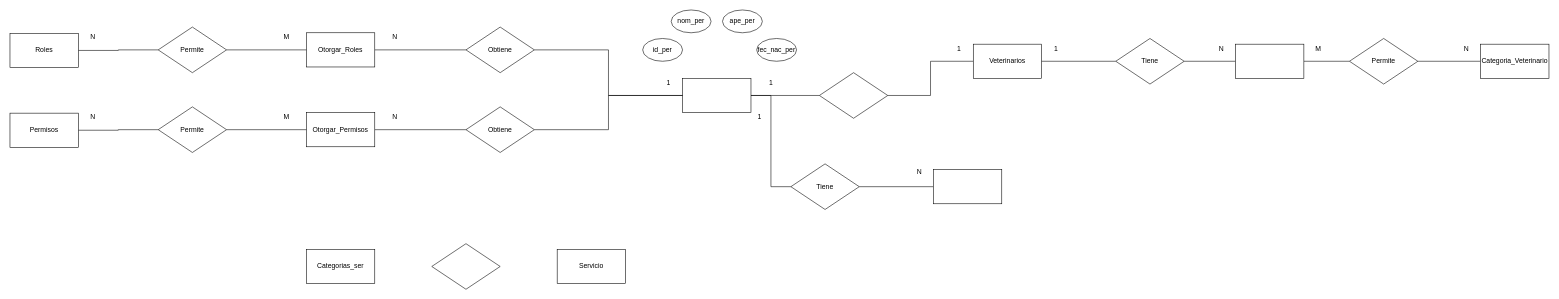
Image size: 1559x299. Some labels were removed from this diagram. Here are the shapes that lost their labels. From the top down, the centre of each, then its label:
At [1269,61]: "Otorgar_Categoría _Veterinario".
At [716,95]: "Personas".
At [853,95]: "Es".
At [967,186]: "Mascotas".
At [465,266]: "Pertenece".
